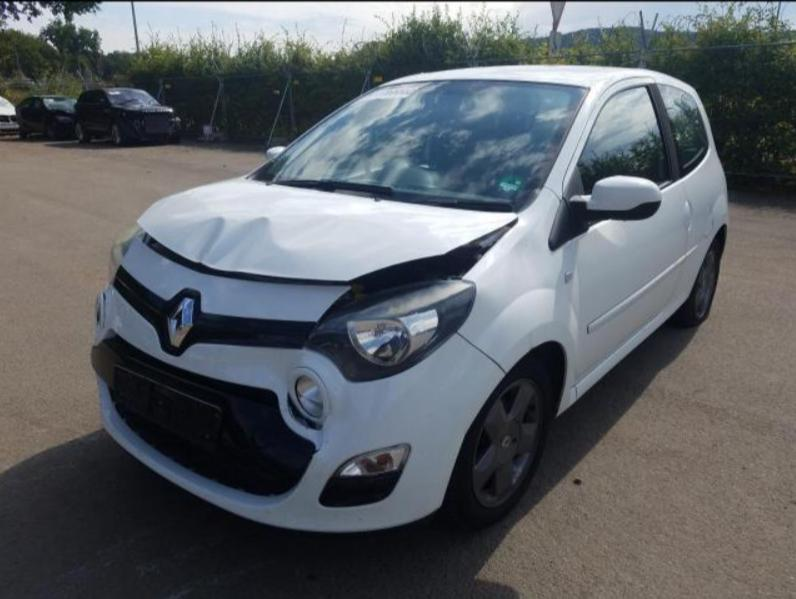Broken part: (136, 176, 524, 291), (314, 218, 525, 328)
Dent: (159, 214, 499, 281)
